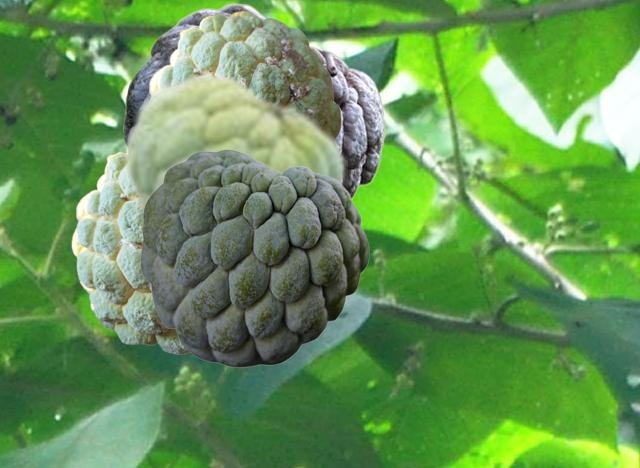atis: (123, 2, 384, 200), (140, 149, 368, 366), (121, 70, 346, 221), (148, 11, 340, 137), (71, 151, 189, 353)
